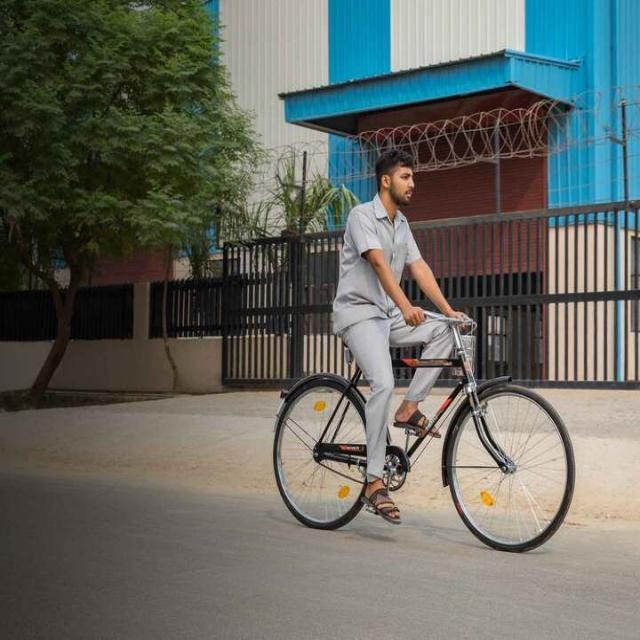bicycle: (274, 150, 575, 551)
